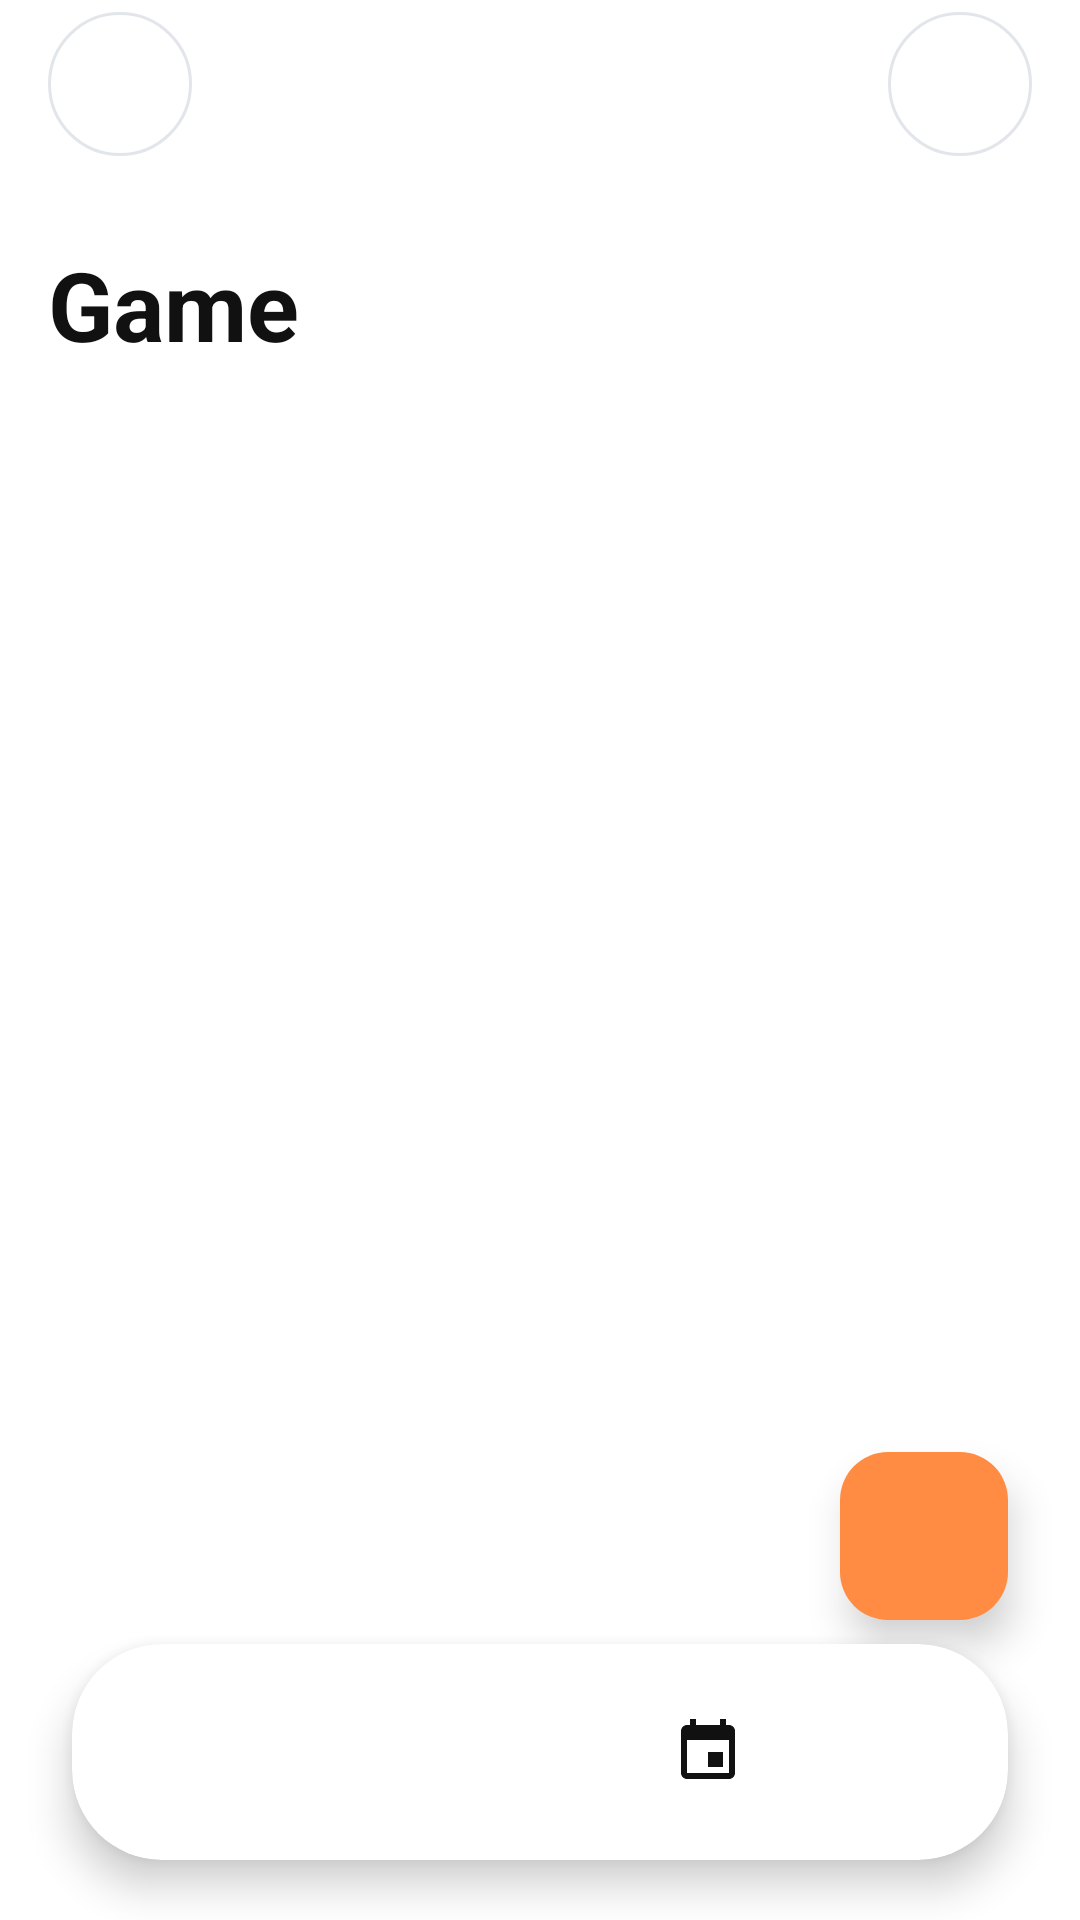

Named icons in this screenshot (1080×1920) and their bounding boxes, (x1, y1, x2, y2):
home calendar: (681, 1719, 735, 1779)
